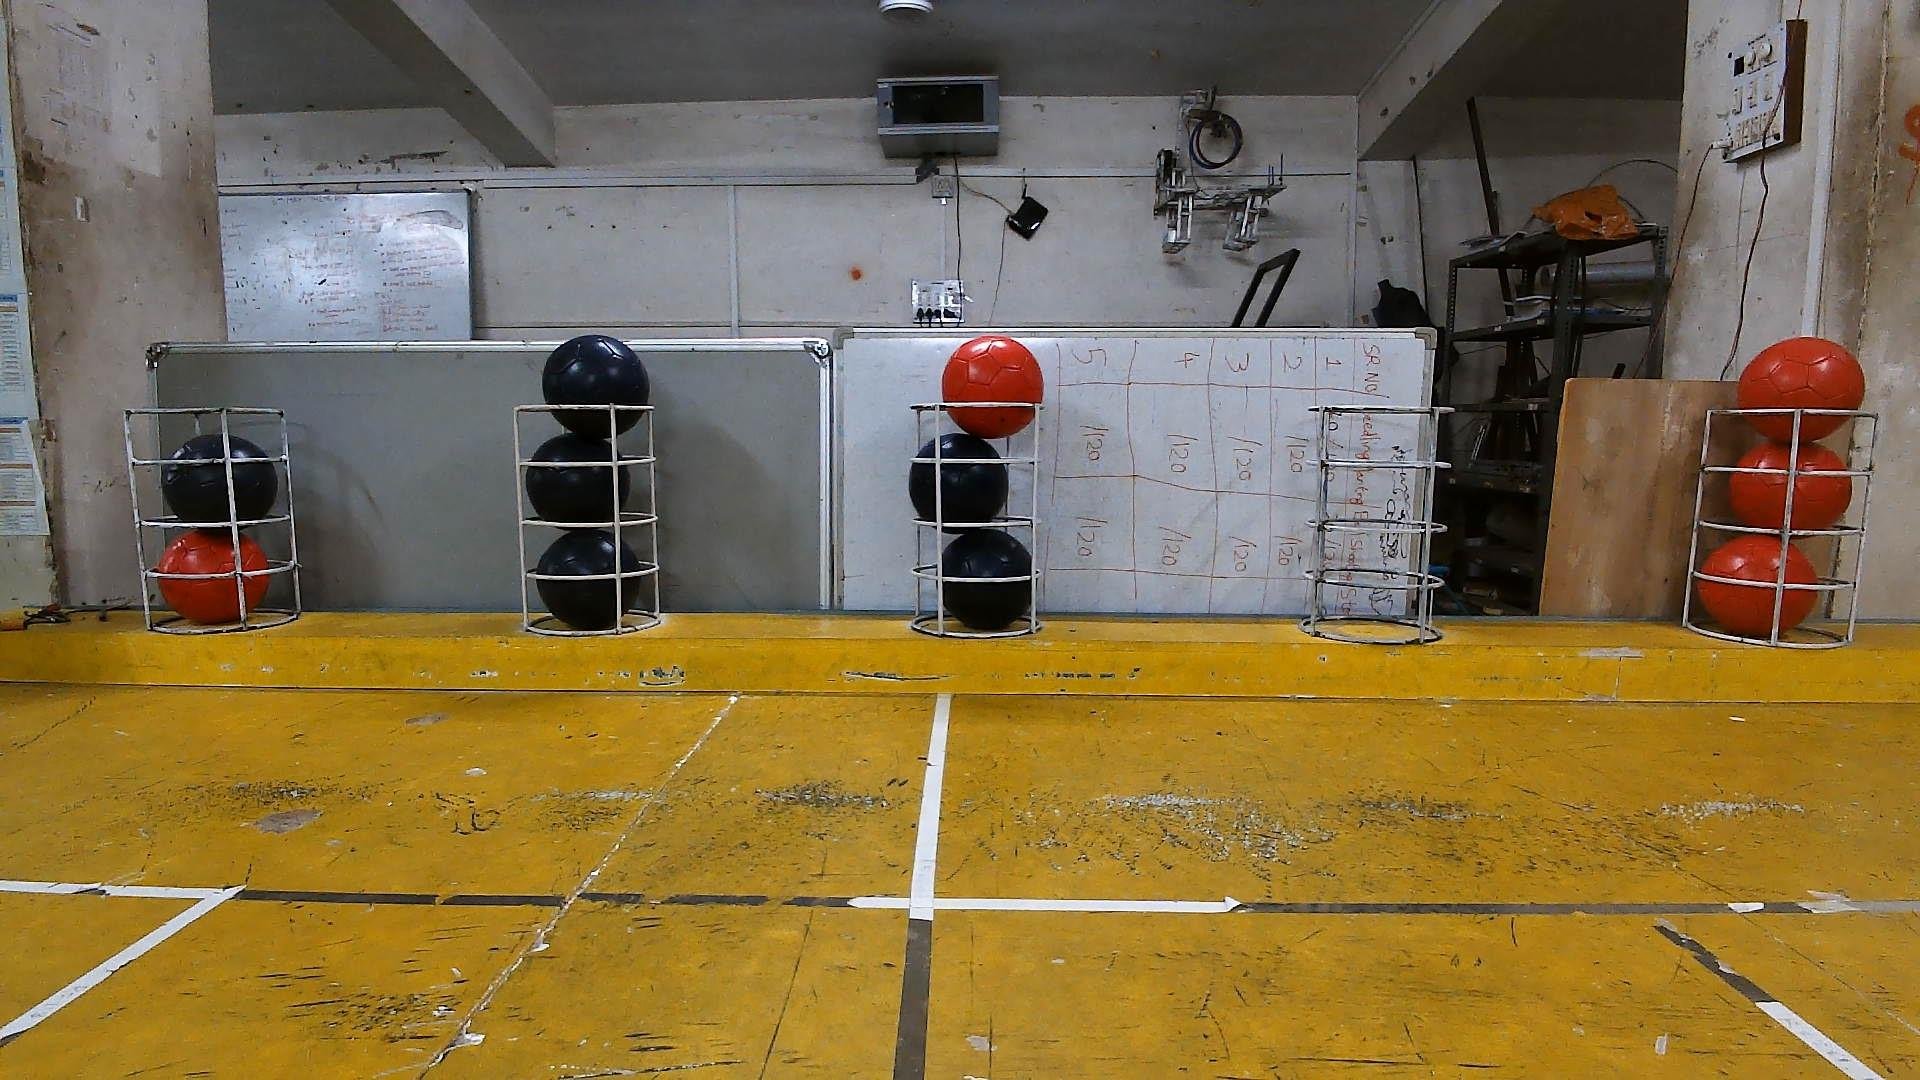dhoka: (542, 334, 651, 440), (161, 435, 277, 529), (538, 529, 644, 630), (907, 431, 1009, 525), (524, 435, 629, 524), (942, 529, 1031, 630)
laale: (1737, 338, 1863, 443), (1702, 537, 1822, 637), (1725, 440, 1853, 534), (157, 529, 270, 626), (942, 334, 1043, 439)
